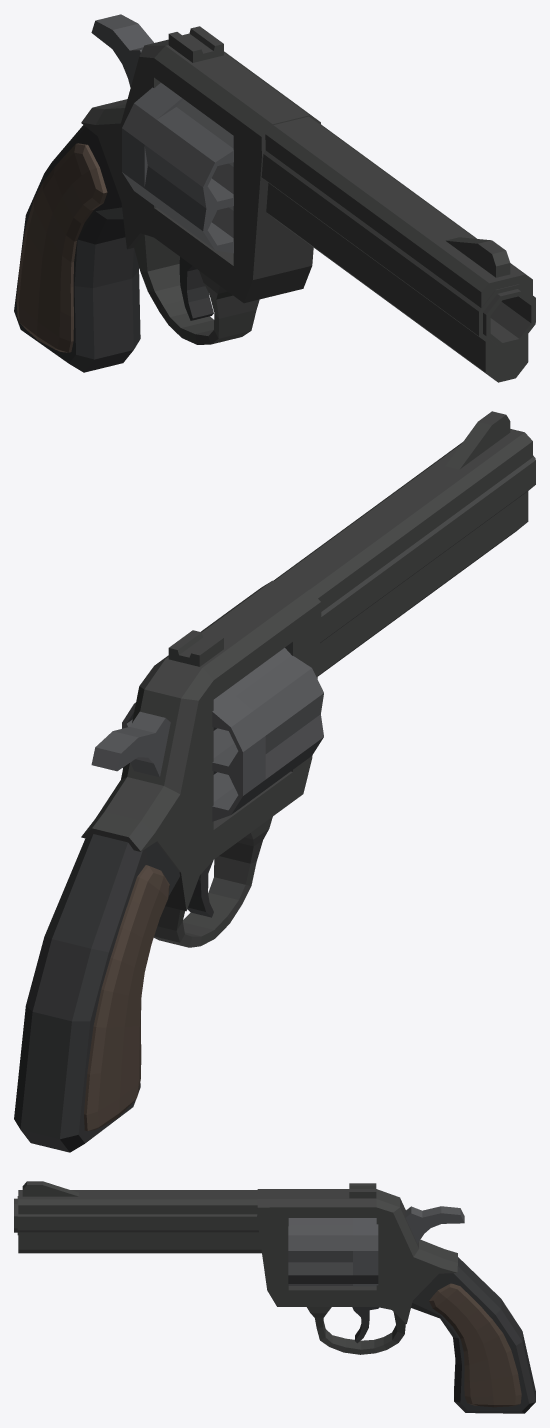
File: revolver-2.glb
3 views of the same model, one above another, from view 1: azimuth 30°, elevation 25°; view 2: azimuth 150°, elevation 25°; view 3: azimuth 270°, elevation 25° (orthographic). The views are drawn at different scales.
Visible parts, largest first — view 1: revolver-2; view 2: revolver-2; view 3: revolver-2.
Part boxes in pixels (<box>): revolver-2: <box>14,14,535,382</box>; revolver-2: <box>14,411,535,1152</box>; revolver-2: <box>14,1181,535,1413</box>.
Bounding box in the file's own units: 0.0401 × 0.1286 × 0.27.
